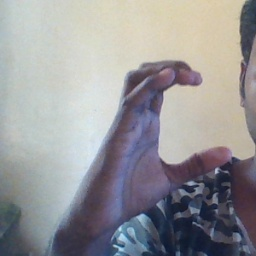C: (109, 55, 242, 183)
